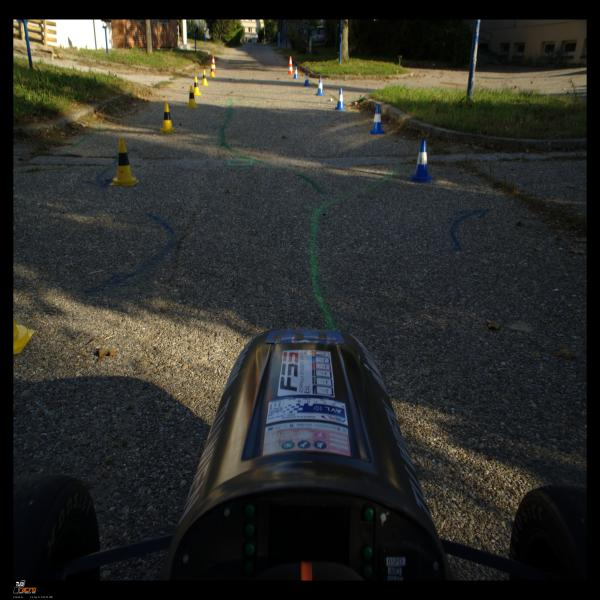blue_cone: (409, 138, 434, 183), (370, 105, 385, 134), (335, 88, 345, 111), (316, 78, 324, 96), (303, 72, 310, 86), (292, 66, 298, 80)
large_orange_cone: (287, 56, 294, 74), (209, 55, 216, 73)
yellow_cone: (110, 138, 140, 186), (13, 317, 35, 354), (159, 102, 176, 134), (186, 85, 198, 108), (193, 76, 201, 95), (202, 69, 209, 86), (210, 64, 216, 78)
